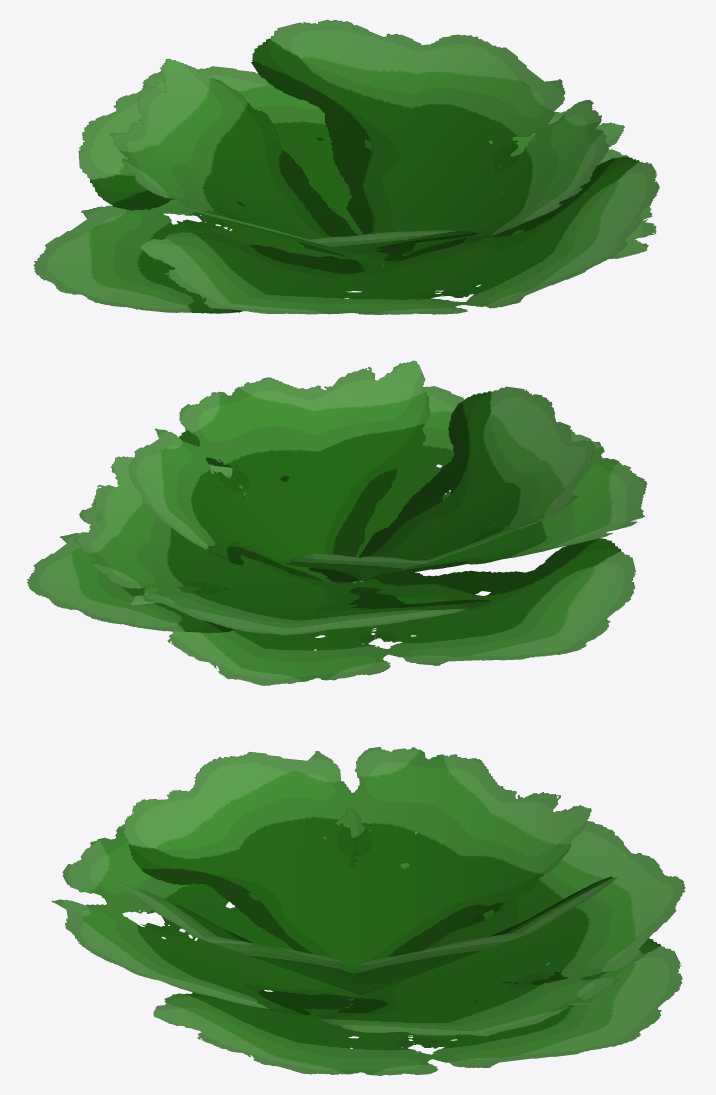
File: Lettuce Coral_preview_3DS_simplified.glb
3 views of the same model, one above another, from view 1: azimuth 30°, elevation 25°; view 2: azimuth 150°, elevation 25°; view 3: azimuth 270°, elevation 25° (orthographic). The views are drawn at different scales.
Visible parts, largest first — view 1: Marine Park Empire model; view 2: Marine Park Empire model; view 3: Marine Park Empire model.
Part boxes in pixels (left/top/right/bottom): Marine Park Empire model: left=33, top=19, right=659, bottom=314; Marine Park Empire model: left=27, top=360, right=647, bottom=685; Marine Park Empire model: left=52, top=747, right=685, bottom=1075.
Bounding box in the file's own units: 29.12 × 6.74 × 29.31.
1 material, 1 textured.
